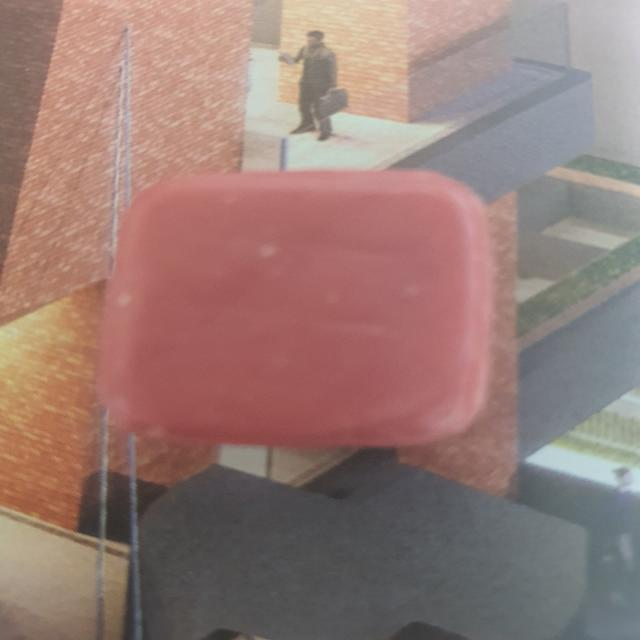pill: (90, 152, 522, 458)
